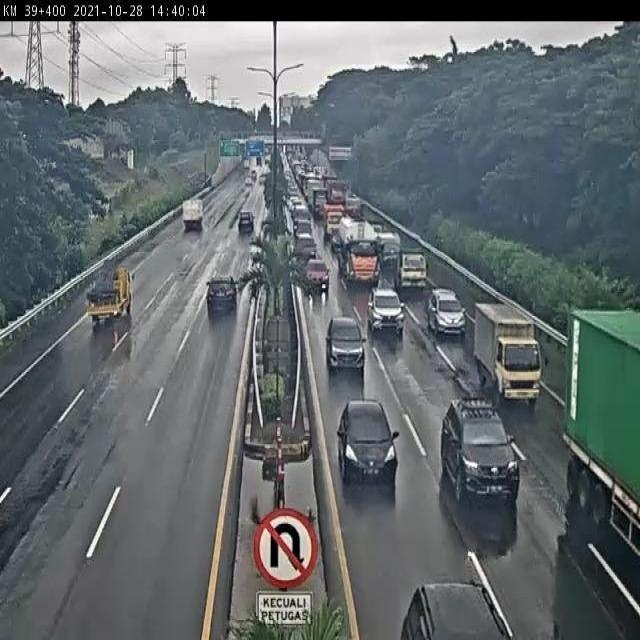big truck: (334, 209, 376, 280)
car: (440, 403, 517, 500), (337, 400, 400, 479), (325, 318, 366, 366), (426, 289, 465, 335), (368, 288, 403, 329), (206, 275, 237, 309), (305, 256, 331, 285)
mid truck: (237, 210, 254, 230)
small truck: (475, 304, 540, 399), (87, 263, 133, 321), (393, 247, 429, 293), (377, 232, 402, 267)
